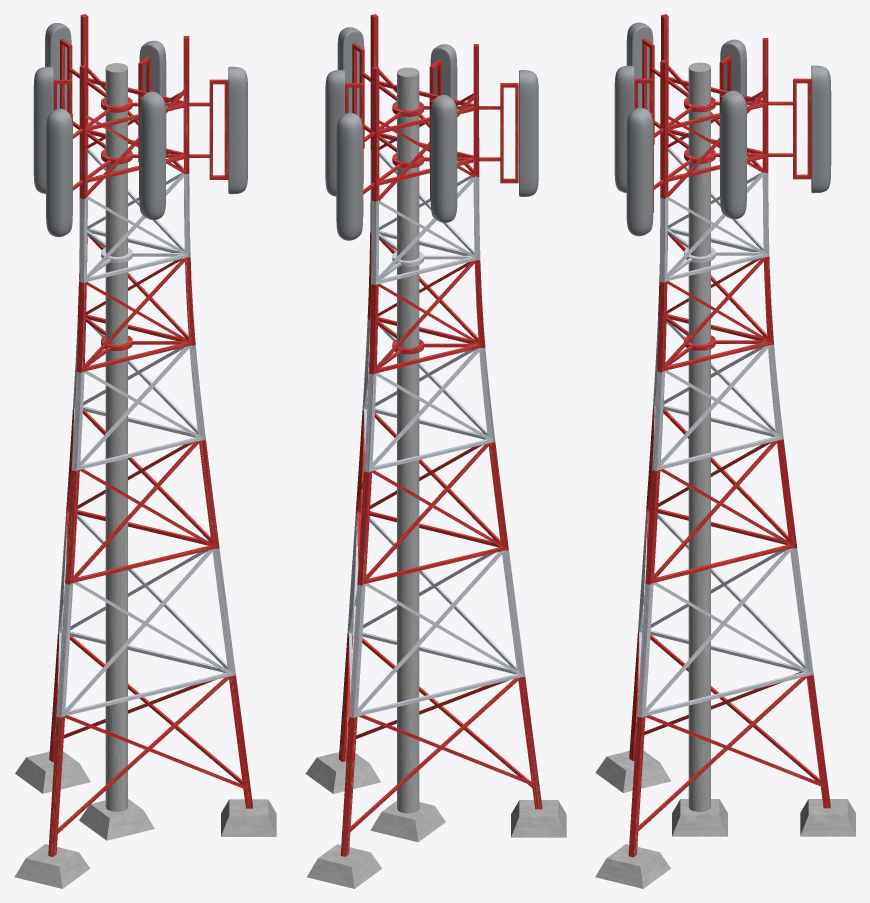
Rendered from 5GTower_SPIndianopolis1.fbx.
3 renders of one model, left to right at view 1: azimuth 30°, elevation 25°; view 2: azimuth 150°, elevation 25°; view 3: azimuth 270°, elevation 25°, orthographic.
Visible parts, largest first — view 1: 5GTower; view 2: 5GTower; view 3: 5GTower.
Boxes of the visible parts, x1,y1,x2,y2 form: 5GTower: [14, 14, 276, 888]; 5GTower: [305, 14, 566, 888]; 5GTower: [595, 14, 855, 888].
Size of the model in its own units: 1741 by 5002 by 1499.
